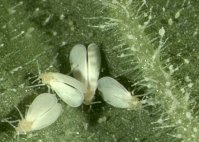whitefly: (4, 93, 61, 141), (31, 63, 86, 108), (68, 43, 101, 109), (96, 74, 146, 116)
